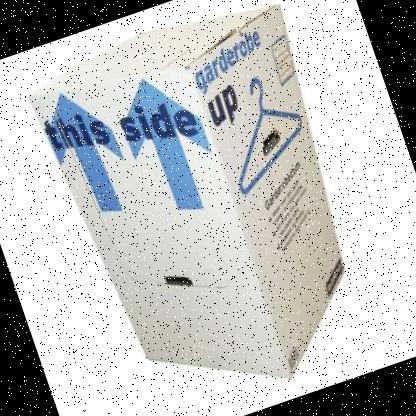box: (28, 4, 346, 378)
normal_hole: (261, 129, 280, 156), (164, 276, 193, 286)
